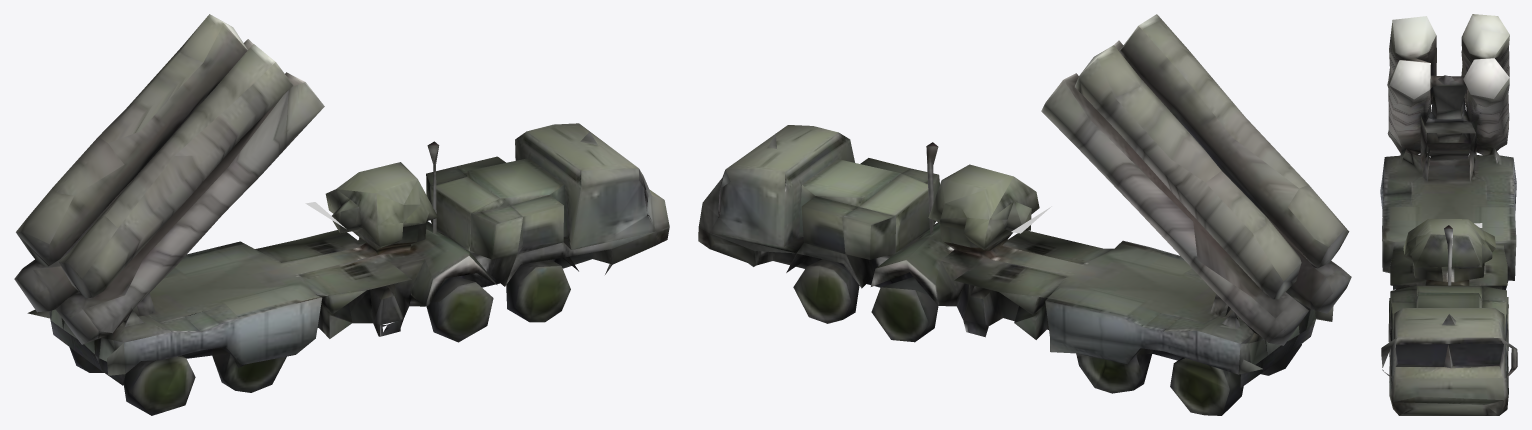
3 views of the same model, side by side, from view 1: azimuth 30°, elevation 25°; view 2: azimuth 150°, elevation 25°; view 3: azimuth 270°, elevation 25° (orthographic). The views are drawn at different scales.
Visible parts, largest first — view 1: g_s400_hull; view 2: g_s400_hull; view 3: g_s400_hull.
Boxes of the visible parts, x1,y1,x2,y2 form: g_s400_hull: (14, 14, 669, 415); g_s400_hull: (698, 14, 1351, 415); g_s400_hull: (1380, 14, 1517, 415).
Bounding box in the file's own units: 13.02 × 6.88 × 3.07.
2 materials, 1 textured.
